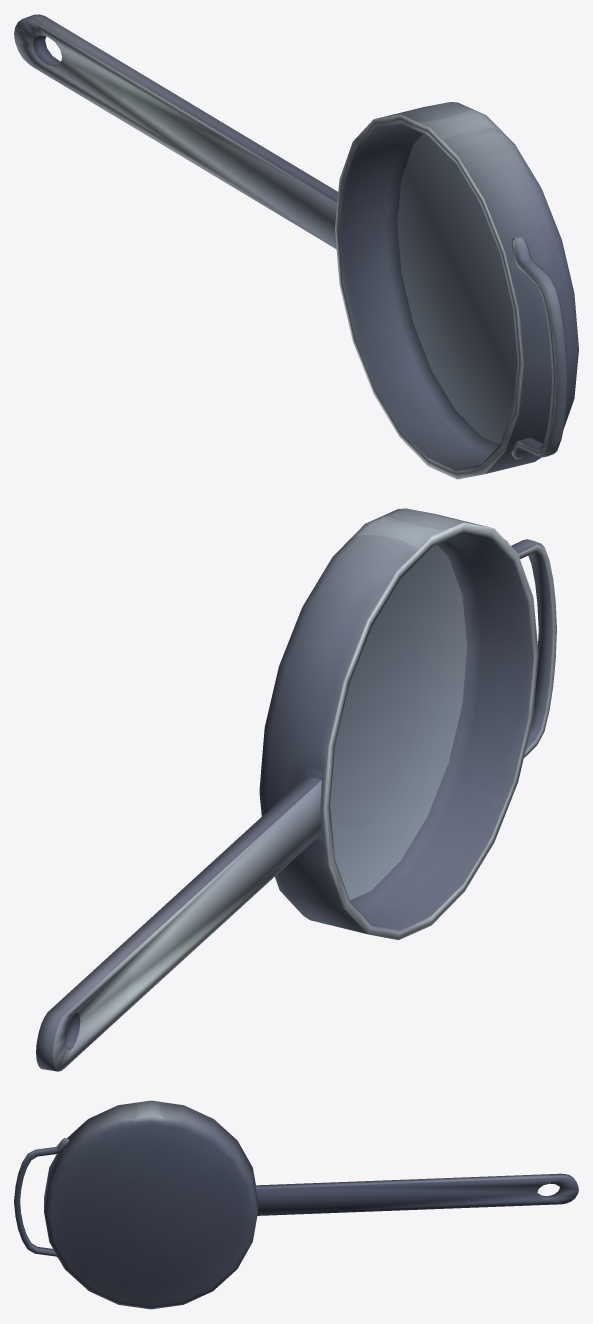
File: W015_0100_Skin.FBX
The picture shows the model from 3 angles, top to bottom: view 1: azimuth 30°, elevation 25°; view 2: azimuth 150°, elevation 25°; view 3: azimuth 270°, elevation 25°; orthographic projection. The views are drawn at different scales.
Visible parts, largest first — view 1: W015; view 2: W015; view 3: W015.
Part boxes in pixels (left/top/right/bottom): W015: left=14, top=14, right=578, bottom=479; W015: left=36, top=508, right=556, bottom=1071; W015: left=14, top=1100, right=578, bottom=1309.
Size of the model in its own units: 17.11 by 53.26 by 141.
